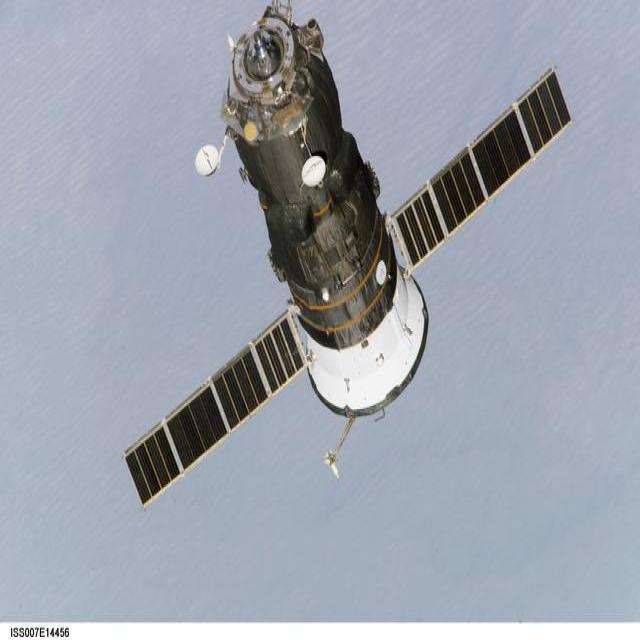medium_debris: (88, 0, 579, 524)
